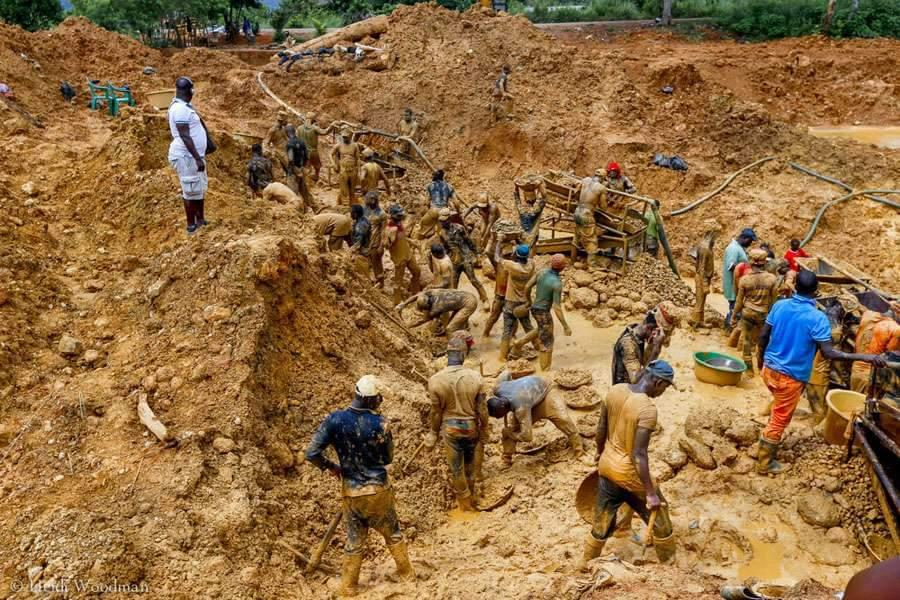MiningTool: (286, 491, 341, 581), (574, 467, 625, 531), (824, 383, 868, 448), (630, 503, 668, 567), (694, 348, 746, 384), (708, 349, 747, 374), (561, 387, 605, 408), (478, 487, 513, 510), (232, 127, 267, 150), (553, 370, 596, 388), (490, 221, 526, 242), (506, 338, 538, 361), (144, 88, 177, 110), (514, 433, 549, 450), (518, 174, 546, 189)
Person: (756, 272, 881, 475), (302, 371, 413, 594), (420, 338, 493, 513), (486, 370, 590, 471), (164, 77, 219, 232), (807, 290, 861, 427), (514, 254, 572, 376), (429, 209, 493, 312), (491, 246, 549, 359), (728, 255, 779, 374), (844, 294, 900, 393), (397, 286, 481, 350), (481, 242, 524, 336), (719, 226, 757, 329), (381, 205, 421, 300), (572, 169, 604, 277), (510, 183, 549, 265), (425, 245, 456, 346), (335, 208, 375, 286), (466, 194, 502, 279), (326, 128, 362, 210), (690, 222, 717, 331), (356, 191, 386, 289), (298, 111, 332, 184), (358, 145, 390, 210), (488, 60, 519, 127), (258, 180, 306, 217), (424, 165, 460, 214), (308, 215, 352, 254), (279, 127, 309, 180), (389, 109, 421, 158), (246, 148, 276, 198), (267, 110, 293, 166), (600, 162, 637, 192), (784, 239, 810, 267)
ProcessingEquiment: (798, 246, 900, 391), (524, 162, 655, 267), (845, 371, 900, 553), (333, 117, 409, 186)
